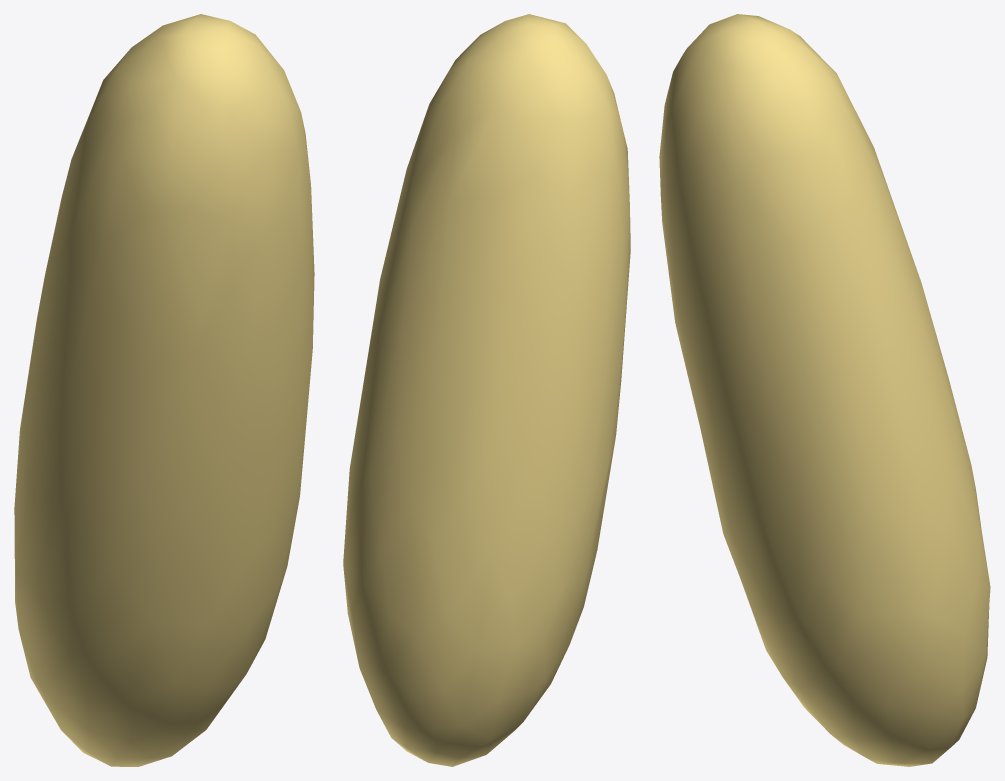
The model's file is fma73573_mm3512.glb.
3 views of the same model, side by side, from view 1: azimuth 30°, elevation 25°; view 2: azimuth 150°, elevation 25°; view 3: azimuth 270°, elevation 25° (orthographic). The views are drawn at different scales.
Visible parts, largest first — view 1: FMA73573_MM3512; view 2: FMA73573_MM3512; view 3: FMA73573_MM3512.
Boxes of the visible parts, x1=… form: FMA73573_MM3512: x1=14, y1=14, x2=314, y2=766; FMA73573_MM3512: x1=343, y1=14, x2=630, y2=766; FMA73573_MM3512: x1=659, y1=14, x2=990, y2=766.
Size of the model in its own units: 0.00163 by 0.00483 by 0.00197.
